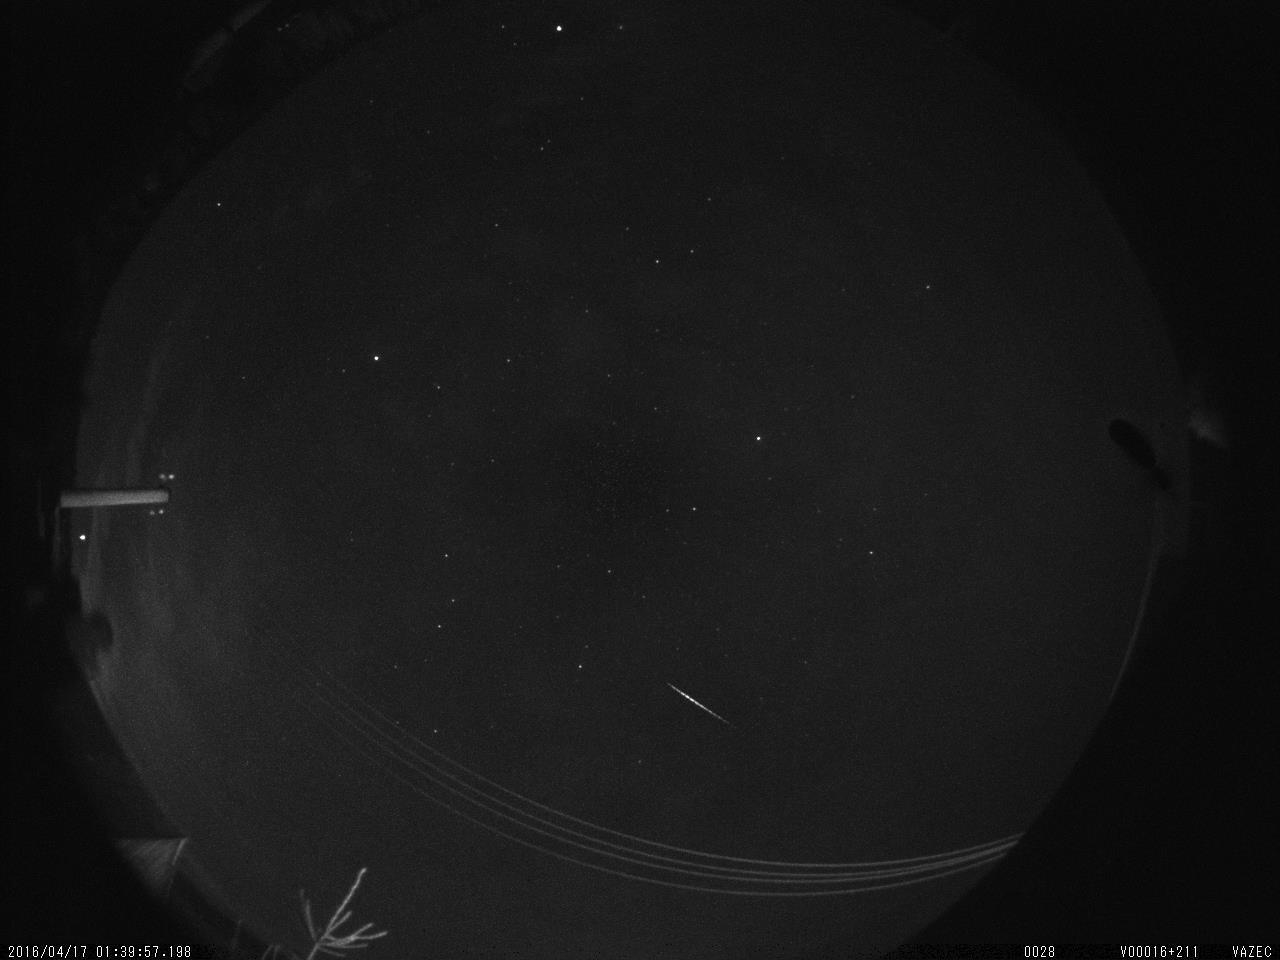Meteor: (661, 672, 740, 738)
